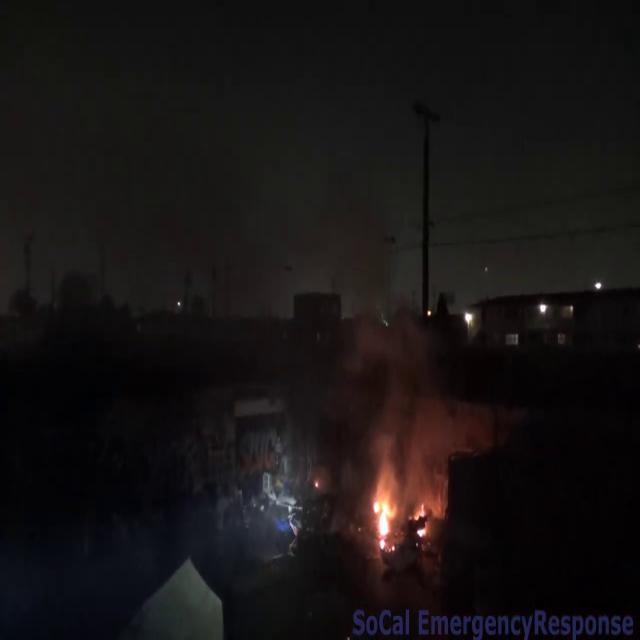Fire: (368, 480, 404, 548)
Smoke: (368, 342, 486, 498)
